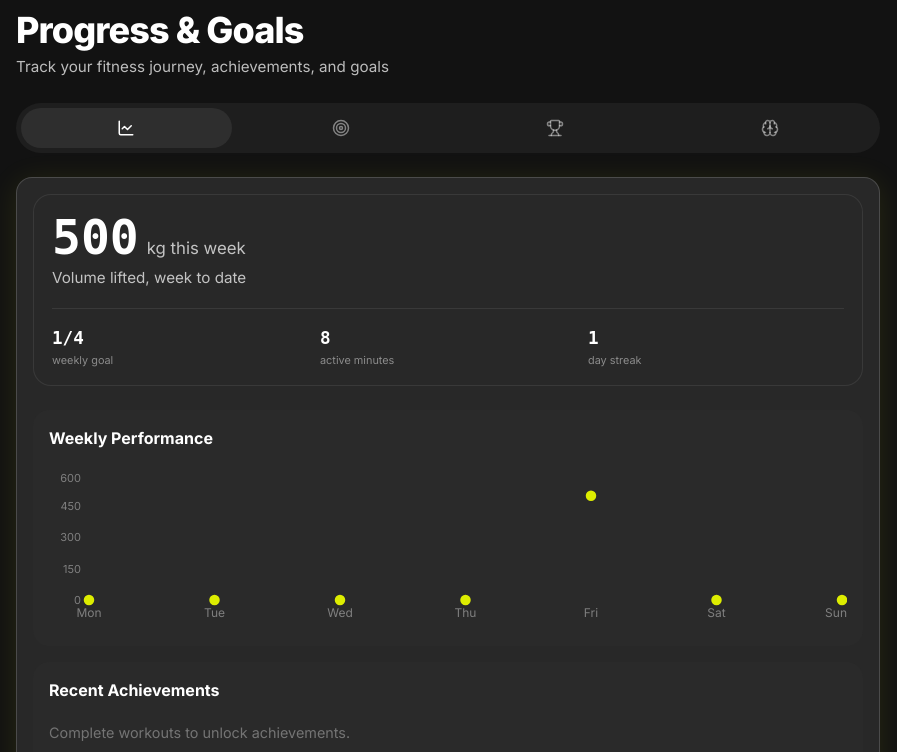
Test: MobileProgress › AI dashboard: no analyses shows an empty state
Click the tab named "AI Dashboard".
click(770, 128)  # box [664, 108, 875, 148]
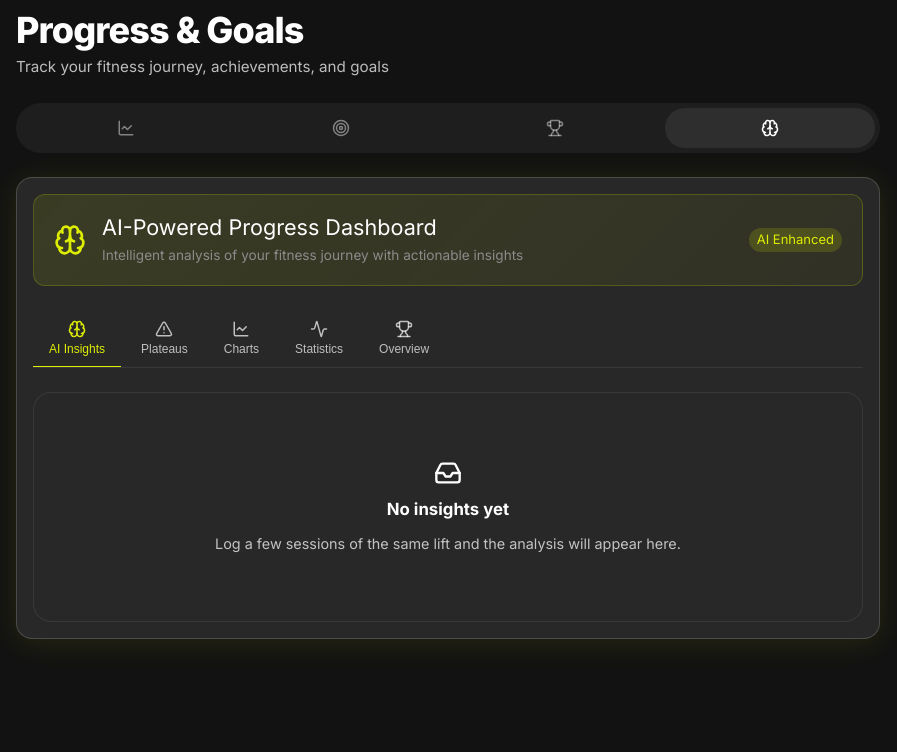
Expected: the heading "No insights yet" is shown, [387, 498, 509, 523]
